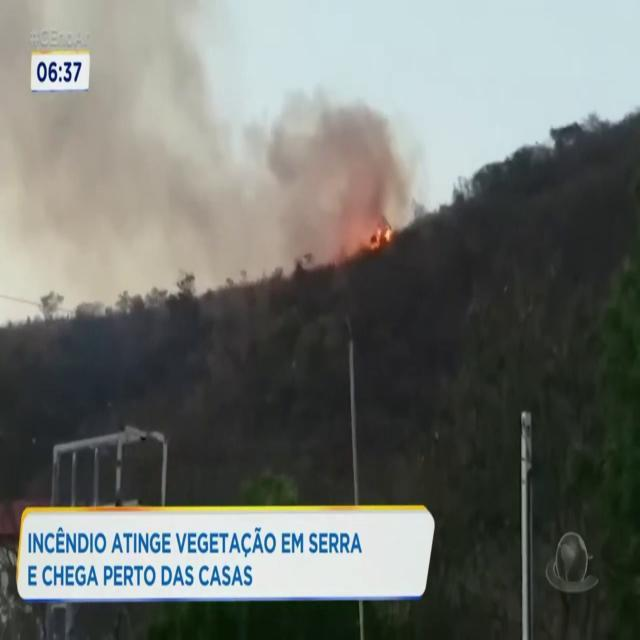Fire: (371, 226, 392, 250)
Smoke: (102, 2, 412, 254)
